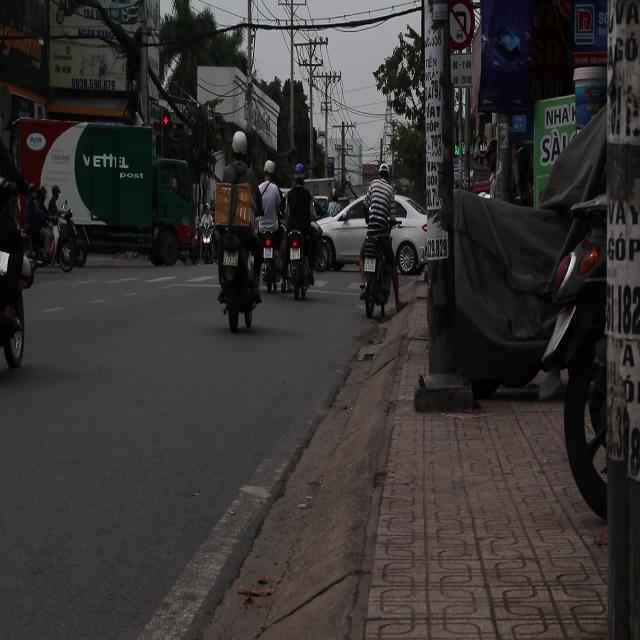car: (312, 194, 432, 275)
motorbike: (211, 224, 266, 337), (360, 224, 400, 331), (17, 206, 74, 280), (283, 205, 309, 316), (45, 212, 92, 267), (259, 212, 283, 313)
truck: (20, 120, 204, 269)
